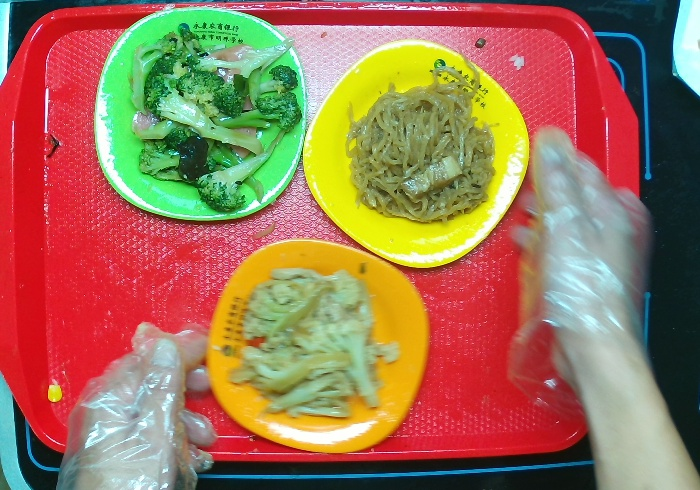YKMZ-Huang_Se_Fang_Die: (297, 35, 534, 272)
YKMZ-Ju_Se_Fang_Die: (202, 230, 439, 467)
YKMZ-Lv_Se_Fang_Die: (81, 1, 318, 236)
